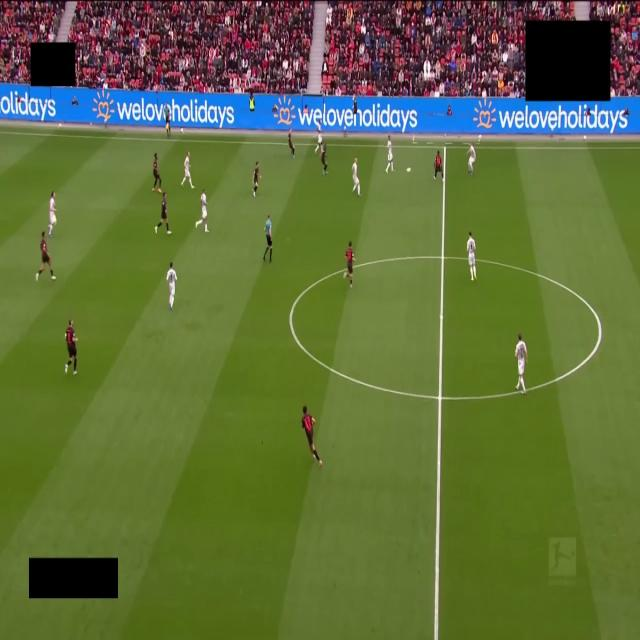ball: (406, 168, 411, 172)
player: (302, 406, 322, 467), (36, 232, 55, 281), (515, 334, 527, 393), (155, 192, 171, 234), (65, 320, 77, 375), (196, 190, 208, 232), (166, 262, 176, 311), (181, 152, 194, 189), (344, 241, 354, 287), (467, 232, 476, 280), (152, 153, 161, 192), (49, 192, 56, 237), (352, 158, 360, 196), (386, 136, 394, 173), (434, 151, 443, 181), (253, 162, 260, 197), (468, 144, 475, 175), (315, 126, 322, 153), (321, 144, 327, 175), (288, 129, 294, 158)
referee: (263, 215, 272, 263)
